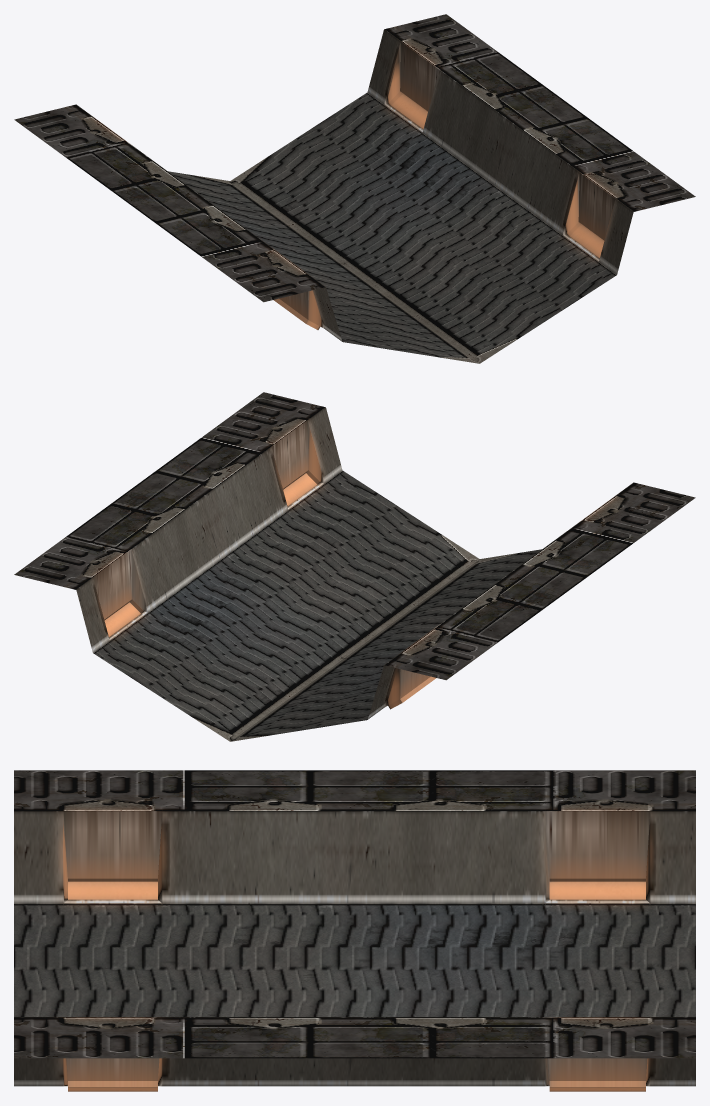
Rendered from forward.fbx.
The picture shows the model from 3 angles, top to bottom: view 1: azimuth 30°, elevation 25°; view 2: azimuth 150°, elevation 25°; view 3: azimuth 270°, elevation 25°; orthographic projection. The views are drawn at different scales.
Parts seen in each view (by area): view 1: Plane; view 2: Plane; view 3: Plane.
Part boxes in pixels (x1,y1,x2,y2): Plane: (14,14,695,363); Plane: (14,392,695,741); Plane: (14,770,695,1091).
Size of the model in its own units: 400 by 101 by 400.
